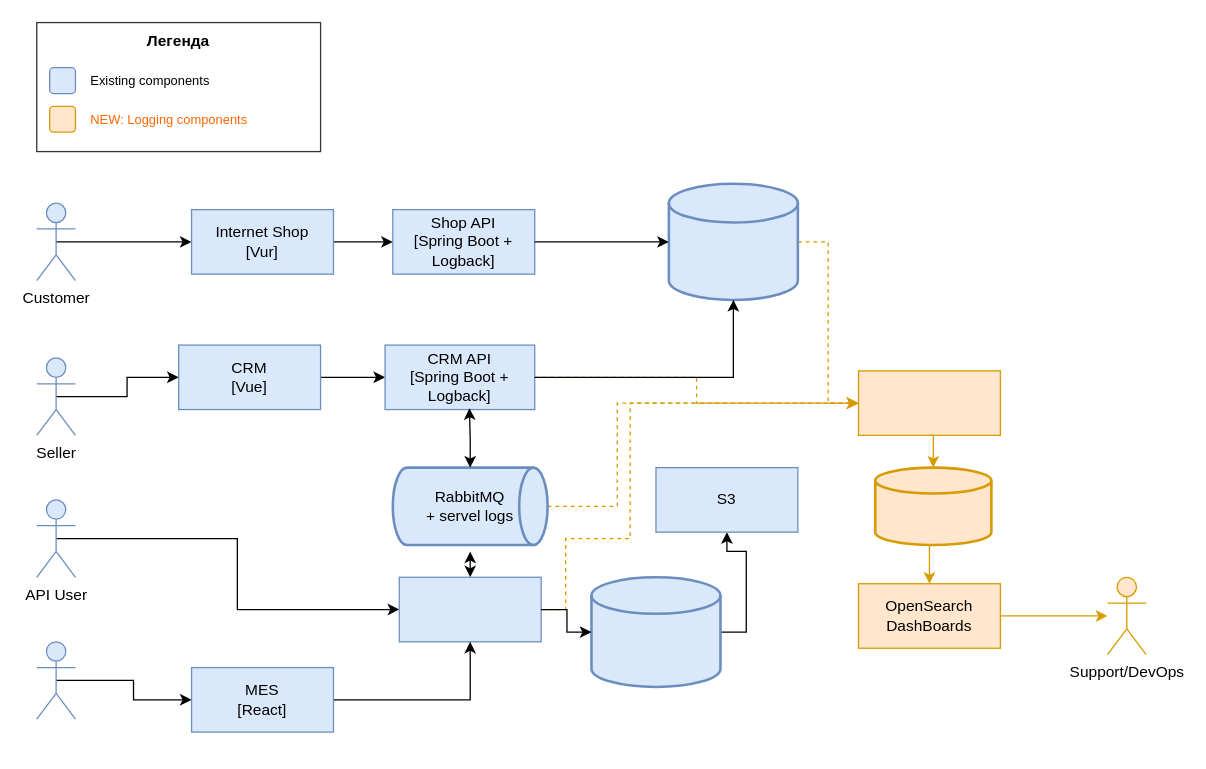
Some shapes in this 1206 by 769 pixel diagram are drawn without their labels. The shapes that lost their labels are listed below. From the top down, each one's box as (x1, y1, x2, y2) in pixels, then its label:
(667, 182, 799, 301): Shop DB [PostgreSQL ] + slow query log
(857, 370, 1000, 435): Fluent Bit [Log Collector]
(873, 466, 992, 546): OpenSearch
(398, 576, 541, 642): MES API [C# + Serilog]
(590, 575, 721, 688): MES DB [PostgreSQL ] + slow query log
(35, 640, 75, 719): Operator
